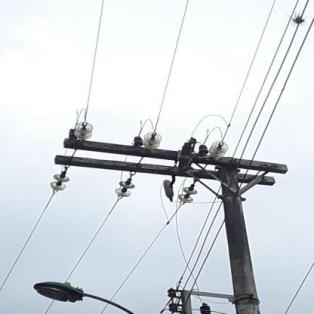Poste: (213, 148, 268, 314)
